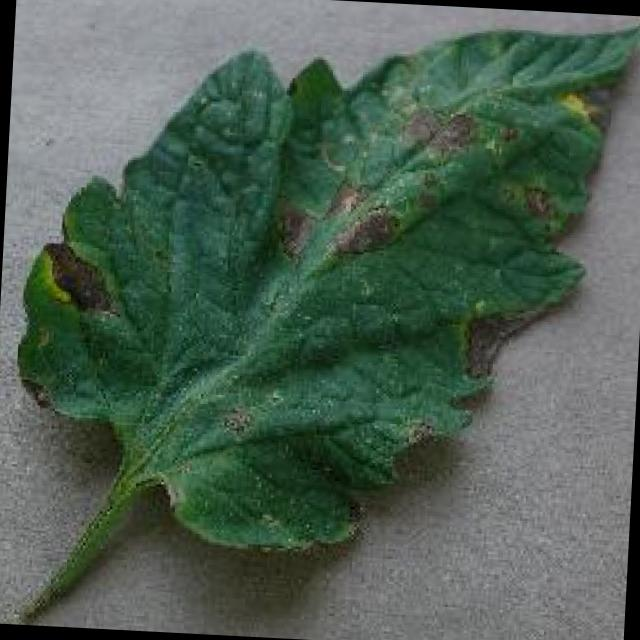Tomato_Early_Blight: (21, 58, 632, 452)
